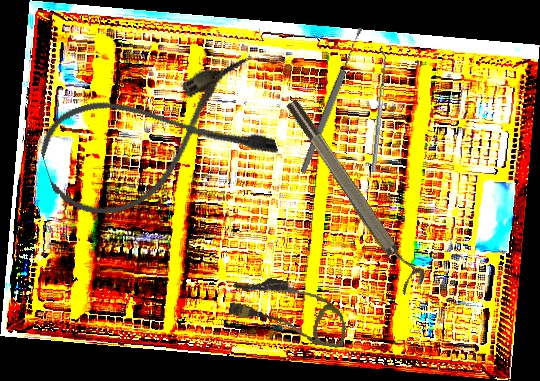Cannula: (31, 52, 281, 230), (225, 272, 353, 349)
Fixation Ring: (282, 91, 430, 296)
Spatula Surgical: (366, 49, 389, 173)
Surgical Spoon: (298, 26, 366, 175)
